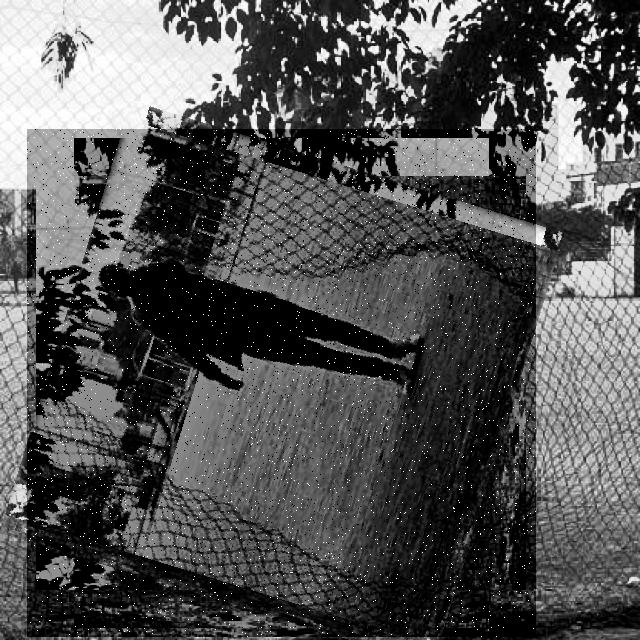anomaly-fence: (27, 129, 536, 637)
